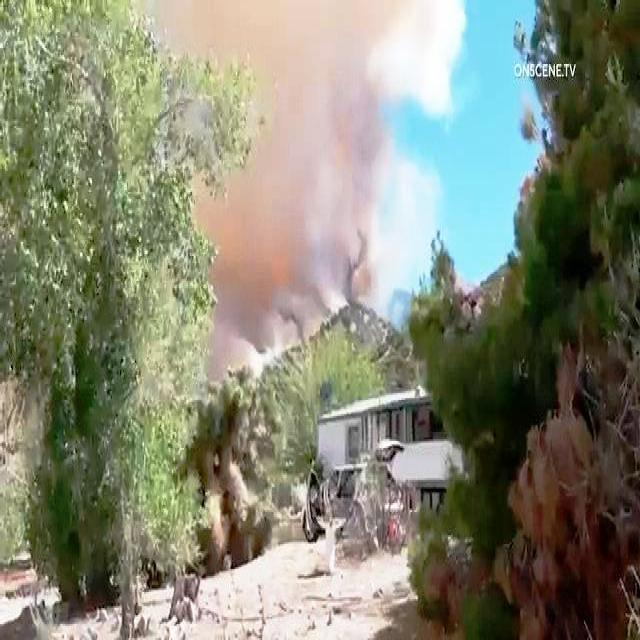Smoke: (166, 0, 458, 336)
